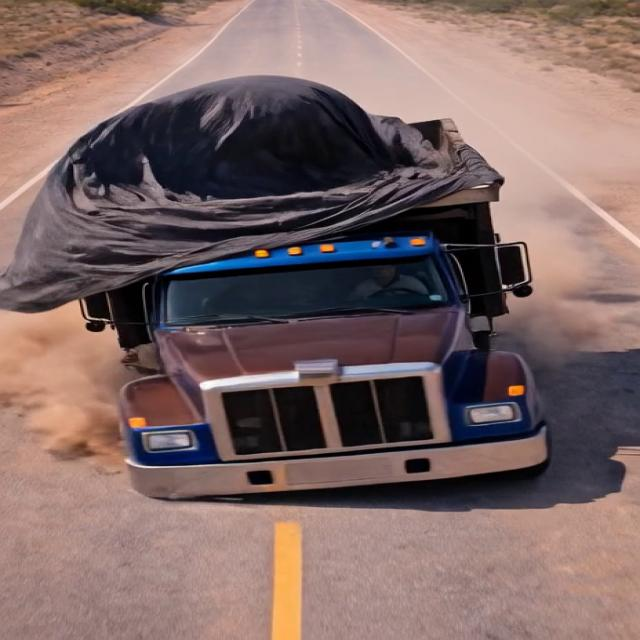trailer: (11, 81, 496, 286)
truck: (6, 53, 559, 503)
